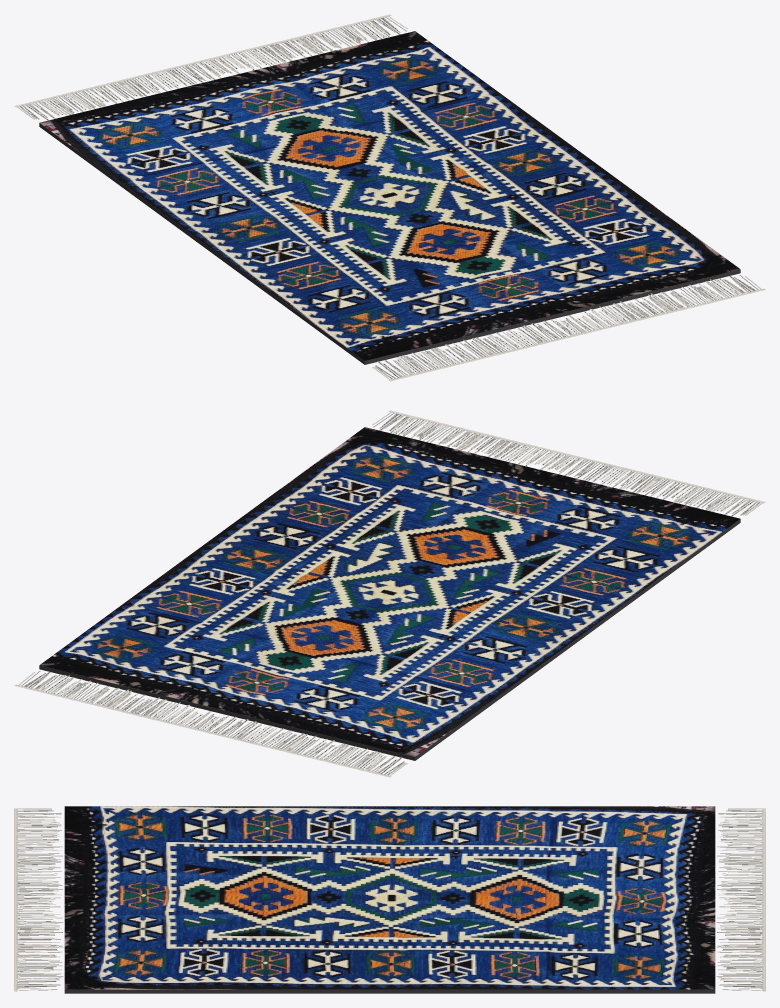
3 renders of one model, top to bottom at view 1: azimuth 30°, elevation 25°; view 2: azimuth 150°, elevation 25°; view 3: azimuth 270°, elevation 25°, orthographic.
Visible parts, largest first — view 1: rug, fringeB, fringeA, side; view 2: rug, fringeA, fringeB, side; view 3: rug, fringeA, fringeB, side.
Boxes of the visible parts, x1=… form: rug: x1=39, y1=31, x2=739, y2=360; fringeB: x1=372, y1=275, x2=765, y2=381; fringeA: x1=14, y1=14, x2=407, y2=120; side: x1=39, y1=123, x2=740, y2=364; rug: x1=40, y1=427, x2=740, y2=756; fringeA: x1=14, y1=671, x2=407, y2=777; fringeB: x1=372, y1=410, x2=765, y2=516; side: x1=39, y1=519, x2=740, y2=760; rug: x1=64, y1=806, x2=715, y2=989; fringeA: x1=716, y1=808, x2=765, y2=991; fringeB: x1=14, y1=808, x2=63, y2=991; side: x1=64, y1=989, x2=715, y2=993.
Size of what is drawn, in the model's own units: 0.6 by 0.00614 by 1.04.
Materials: 2 (2 with a texture image).
